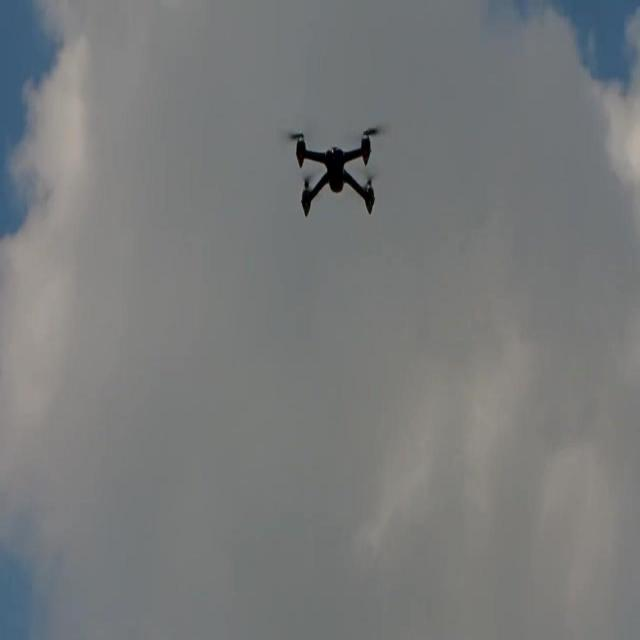UAV: (293, 124, 381, 218)
